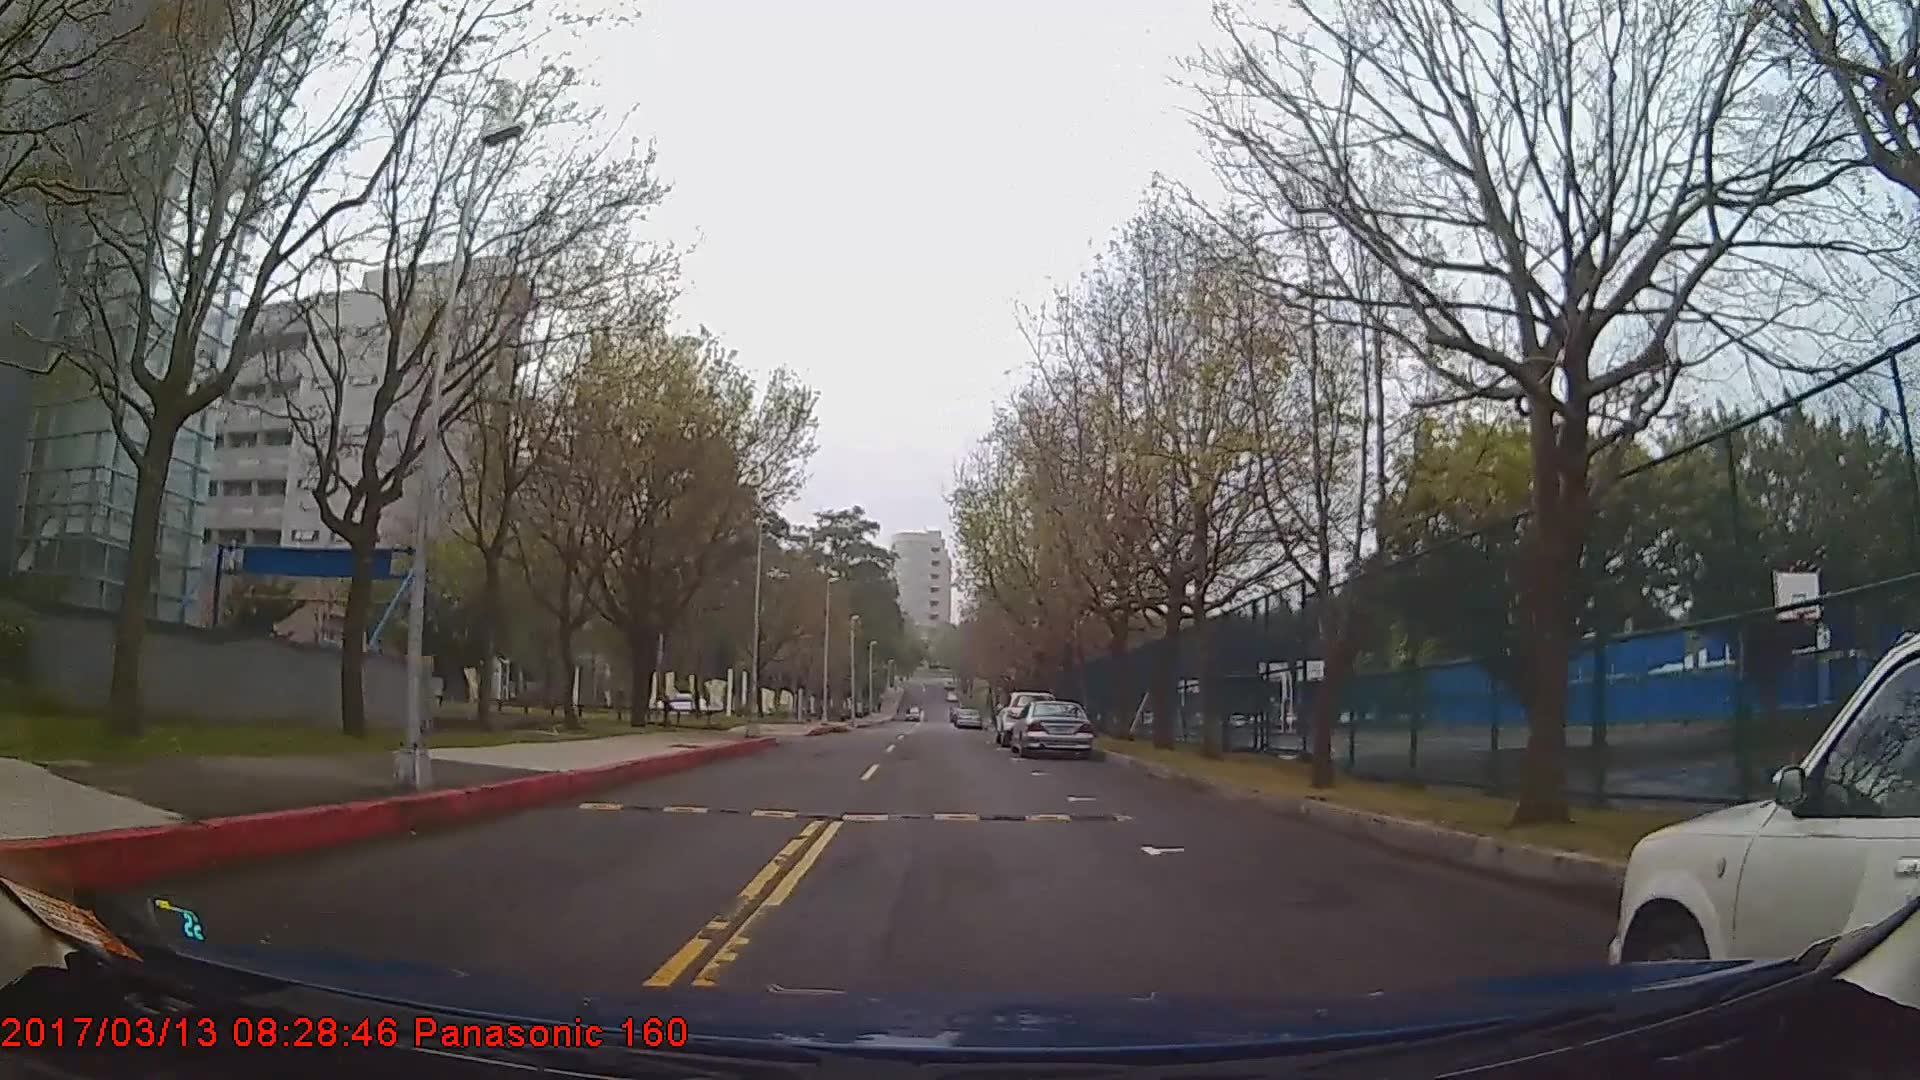vehicle: (1611, 637, 1917, 1013), (1007, 695, 1093, 754), (949, 704, 985, 731)
